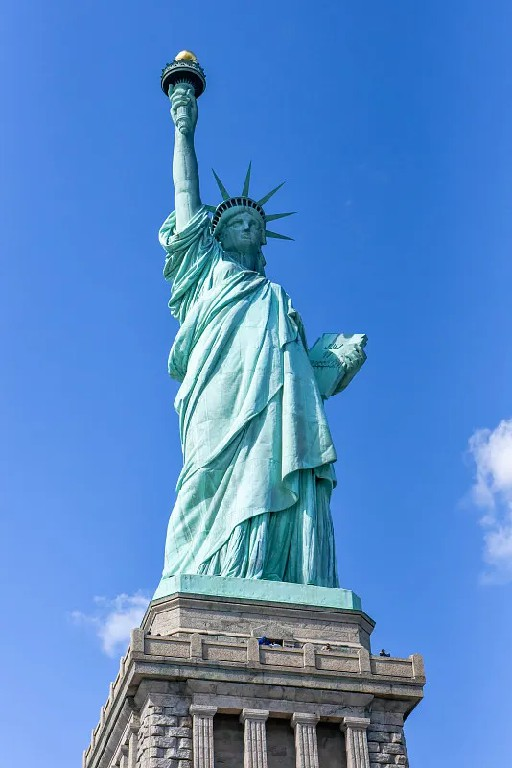SL: (82, 49, 425, 768)
